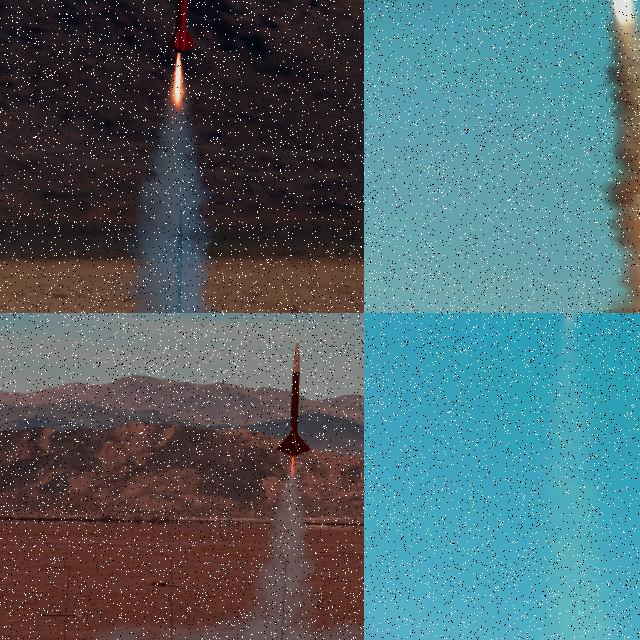Rocket: (276, 340, 312, 456), (168, 0, 197, 53)
